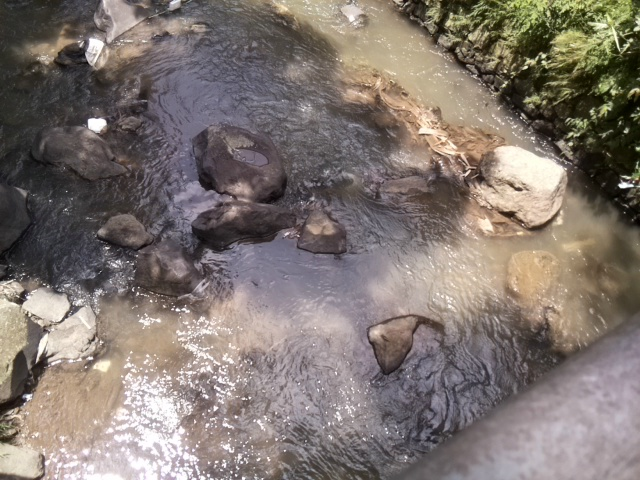Sampah_Plastik: (84, 32, 109, 70)
Sampah_Styrofoam: (86, 116, 111, 135)
